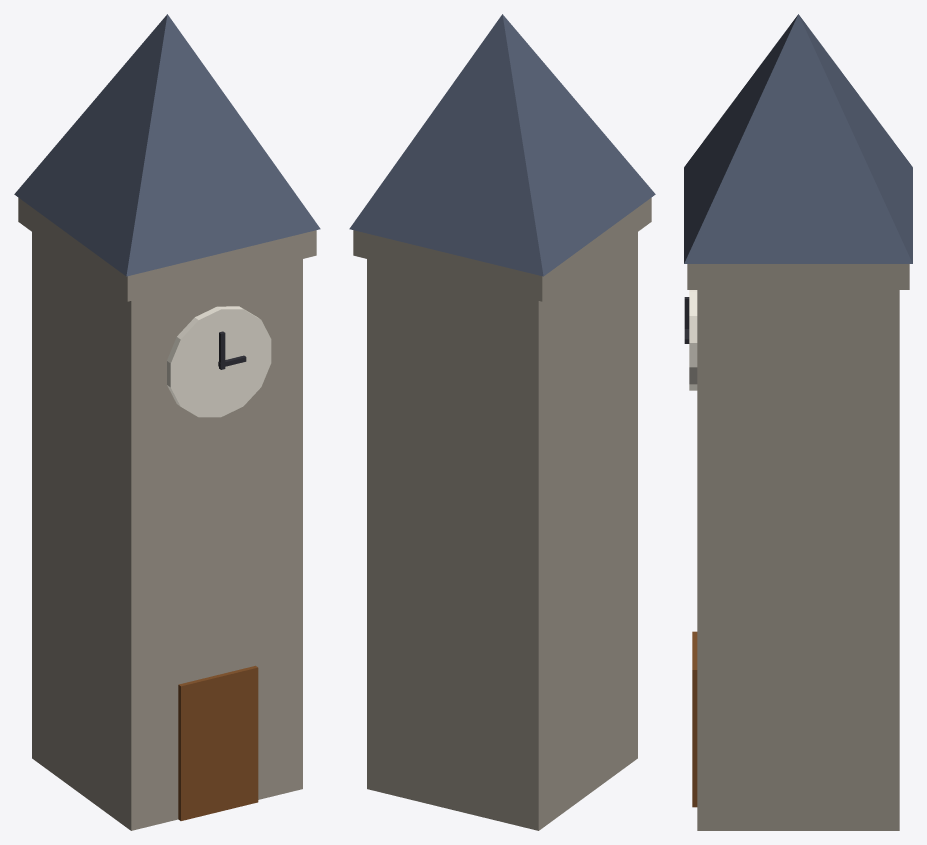
Rendered from town_clock_tower.glb.
3 renders of one model, left to right at view 1: azimuth 30°, elevation 25°; view 2: azimuth 150°, elevation 25°; view 3: azimuth 270°, elevation 25°, orthographic.
Visible parts, largest first — view 1: clock_tower; view 2: clock_tower; view 3: clock_tower.
Boxes of the visible parts, left/top/right/bottom form: clock_tower: left=14, top=14, right=320, bottom=830; clock_tower: left=349, top=14, right=655, bottom=830; clock_tower: left=684, top=14, right=912, bottom=830.
Size of the model in its own units: 2.26 by 8.45 by 2.26.
